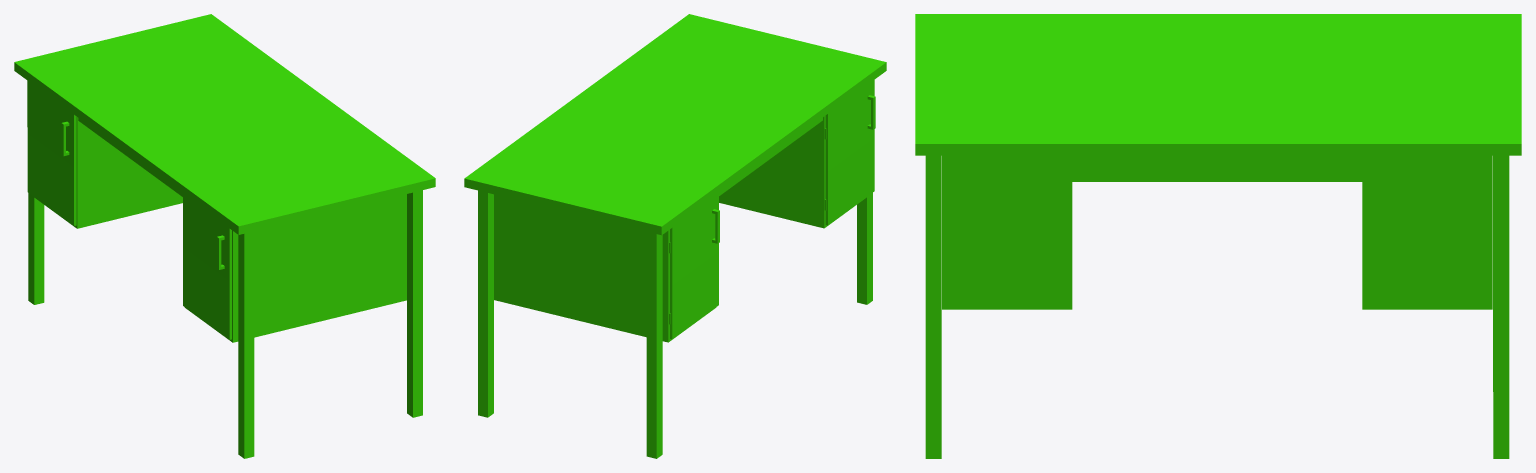
File: Table1.fbx
3 views of the same model, side by side, from view 1: azimuth 30°, elevation 25°; view 2: azimuth 150°, elevation 25°; view 3: azimuth 270°, elevation 25° (orthographic). The views are drawn at different scales.
Parts seen in each view (by area): view 1: SM_Table_A_01.ID; view 2: SM_Table_A_01.ID; view 3: SM_Table_A_01.ID.
Part boxes in pixels (<box>): SM_Table_A_01.ID: <box>14,14,435,458</box>; SM_Table_A_01.ID: <box>464,14,886,458</box>; SM_Table_A_01.ID: <box>915,14,1521,458</box>.
Bounding box in the file's own units: 90.91 × 102 × 175.
